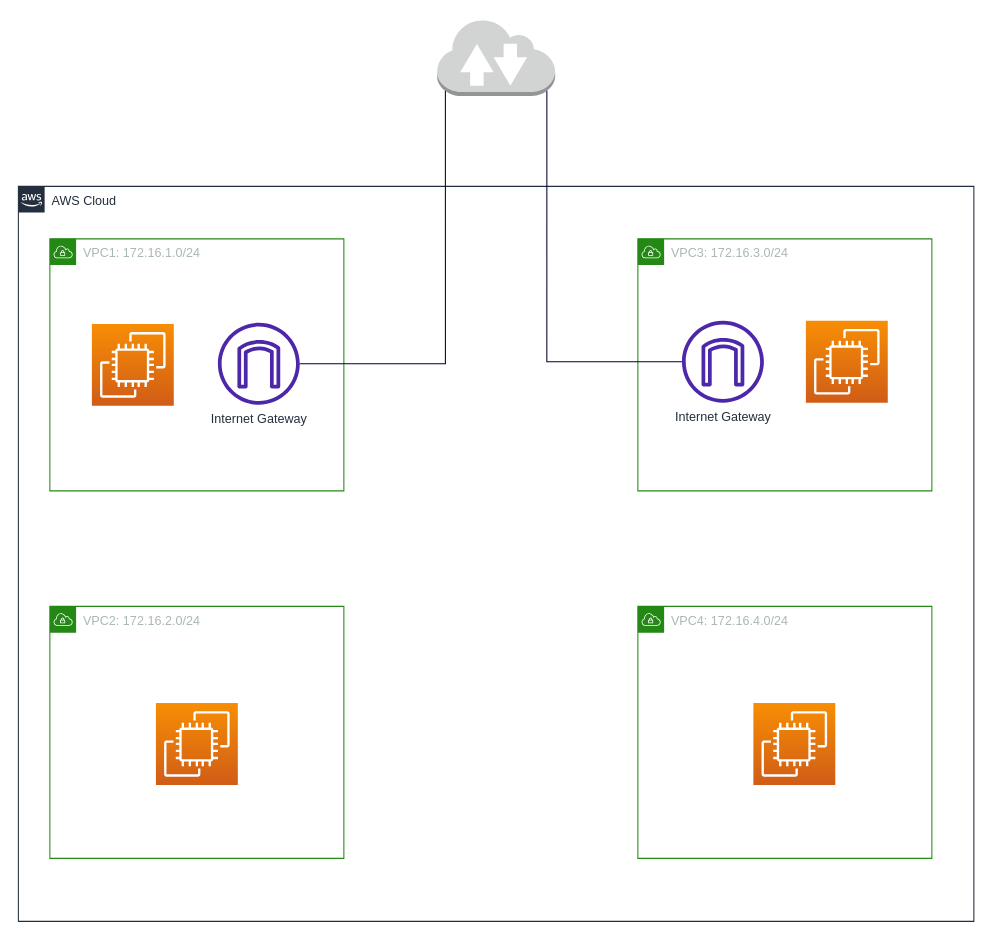
Some shapes in this 992 by 940 pixel diagram are drawn without their labels. The centre of each missing label's shape, as x and y in pixels:
First EC2 host: (132,364)
Fourth EC2 host: (793,743)
Second EC2 host: (196,743)
Third EC2 host: (846,361)
